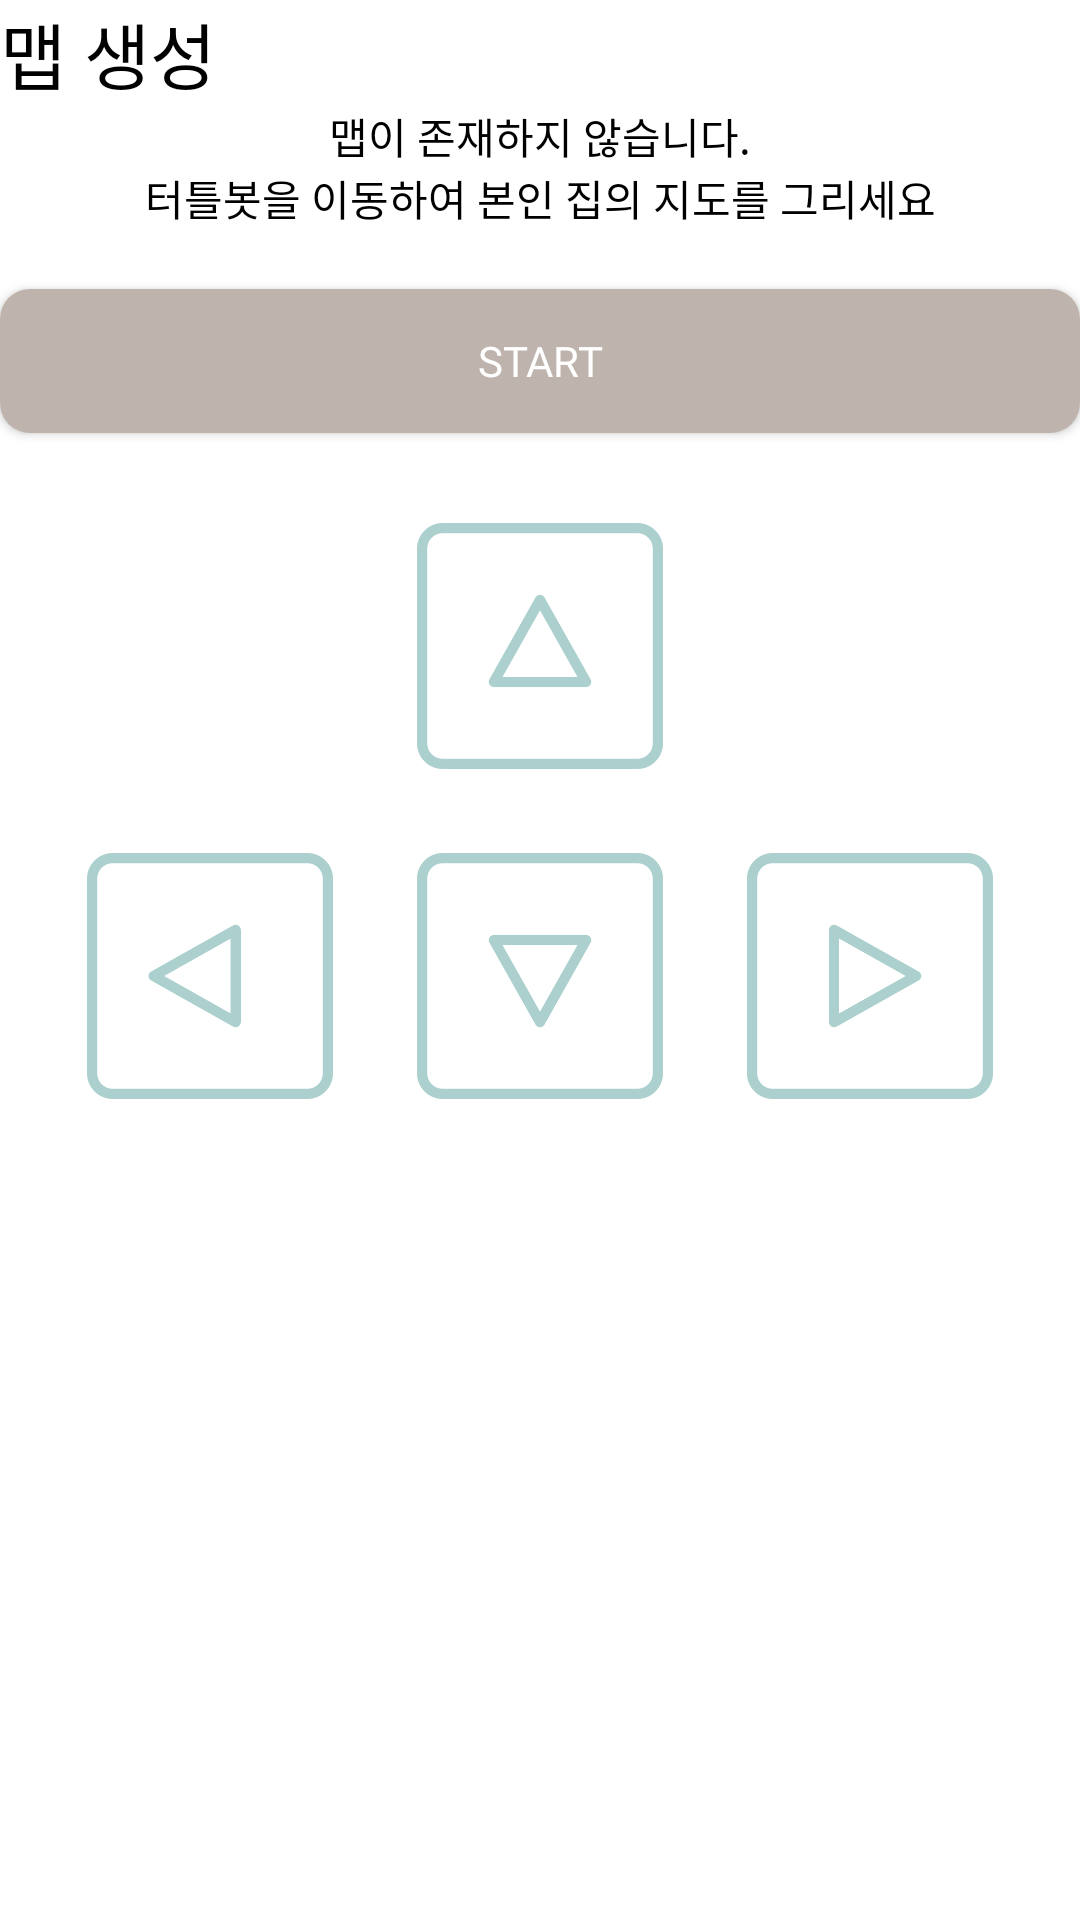

Screen size 1080 × 1920. Icon name, then its box in pixels as [left=x1, top=y1, right=x2, bottom=y2]:
down: [left=417, top=853, right=663, bottom=1099]
left: [left=87, top=853, right=333, bottom=1099]
right: [left=747, top=853, right=993, bottom=1099]
